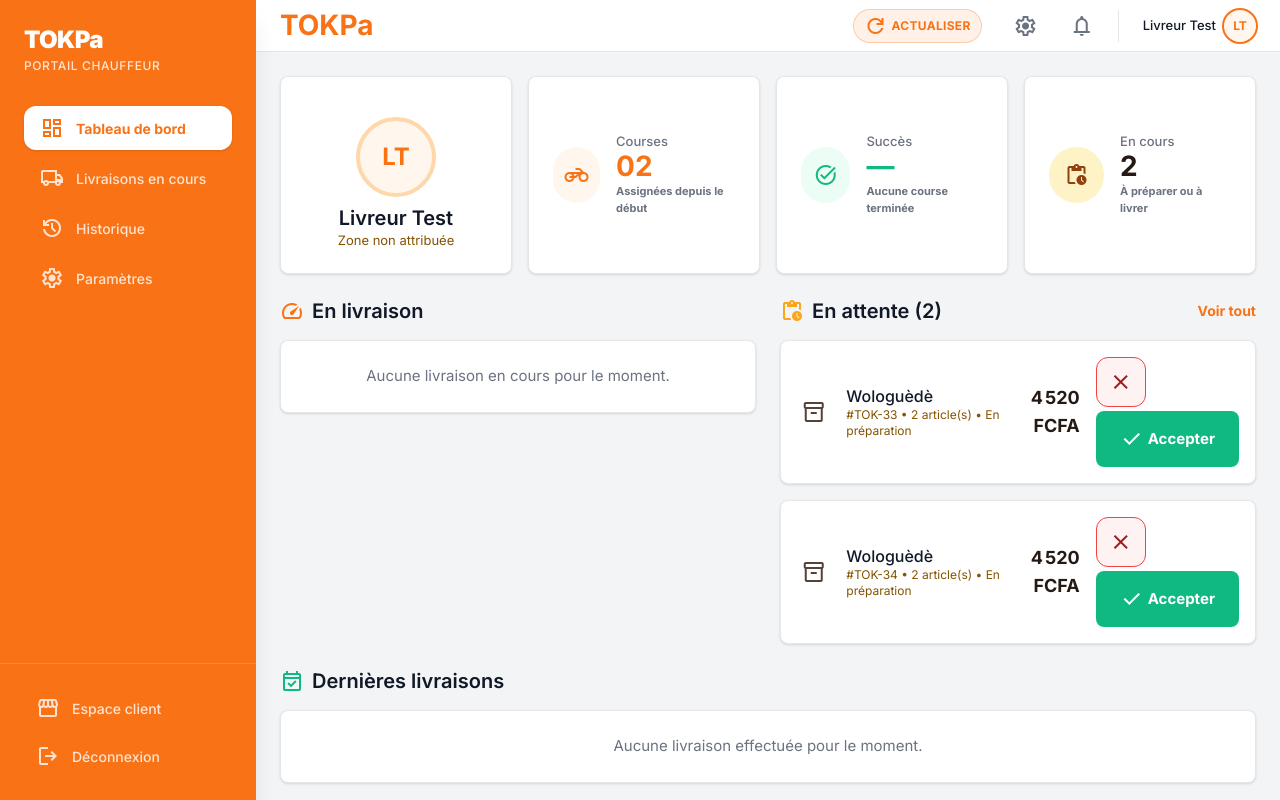
Test: course livreur : acceptation et refus via le frontend › annuler la modale de refus n'appelle aucun endpoint et garde la course
Expected: the text "#TOK-33 • 2 article(s) • En préparation" is shown, [846,407,1000,439]
Click the button named "Refuser la course #TOK-33": {"x": 1121, "y": 382} [1096,357,1146,407]
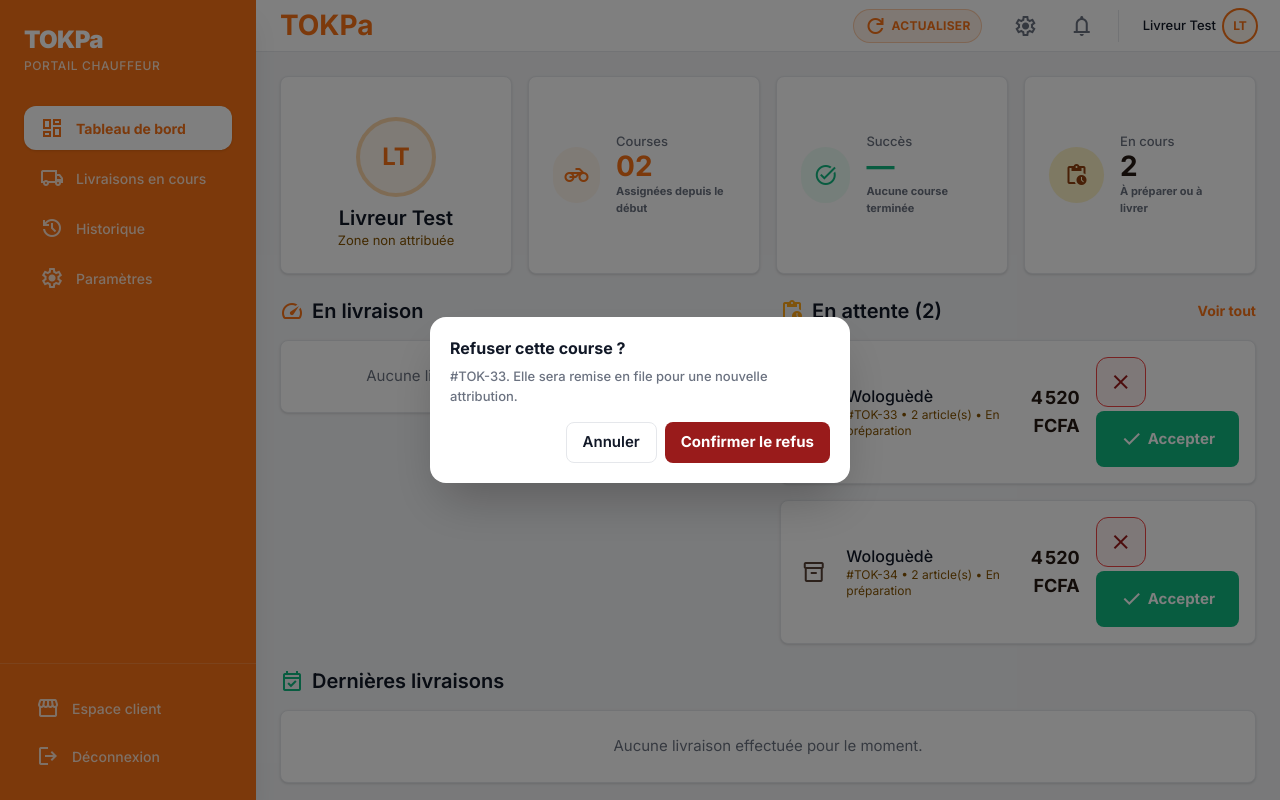
Click the button "Annuler": {"x": 611, "y": 443} [566,422,657,463]
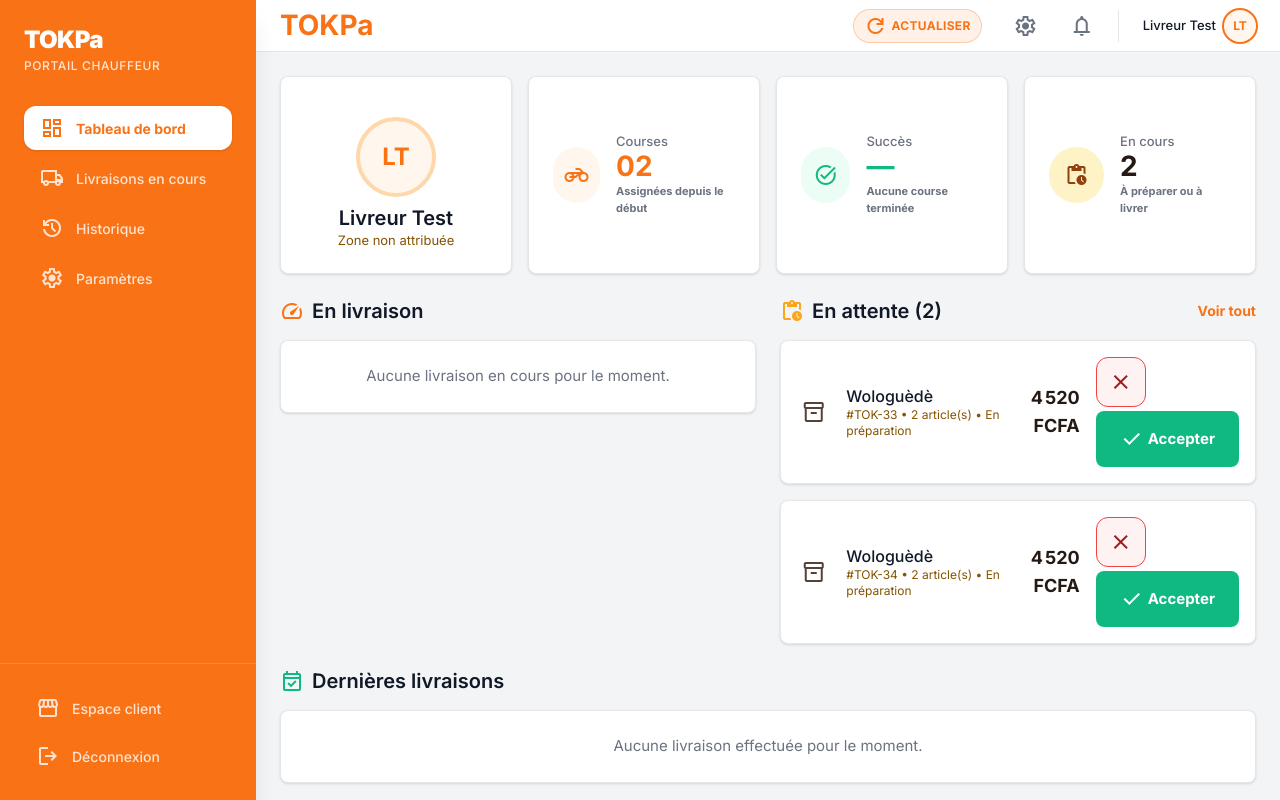
Expected: the text "#TOK-33 • 2 article(s) • En préparation" is shown, [846,407,1000,439]
Now the heading "Refuser cette course ?" is gone
